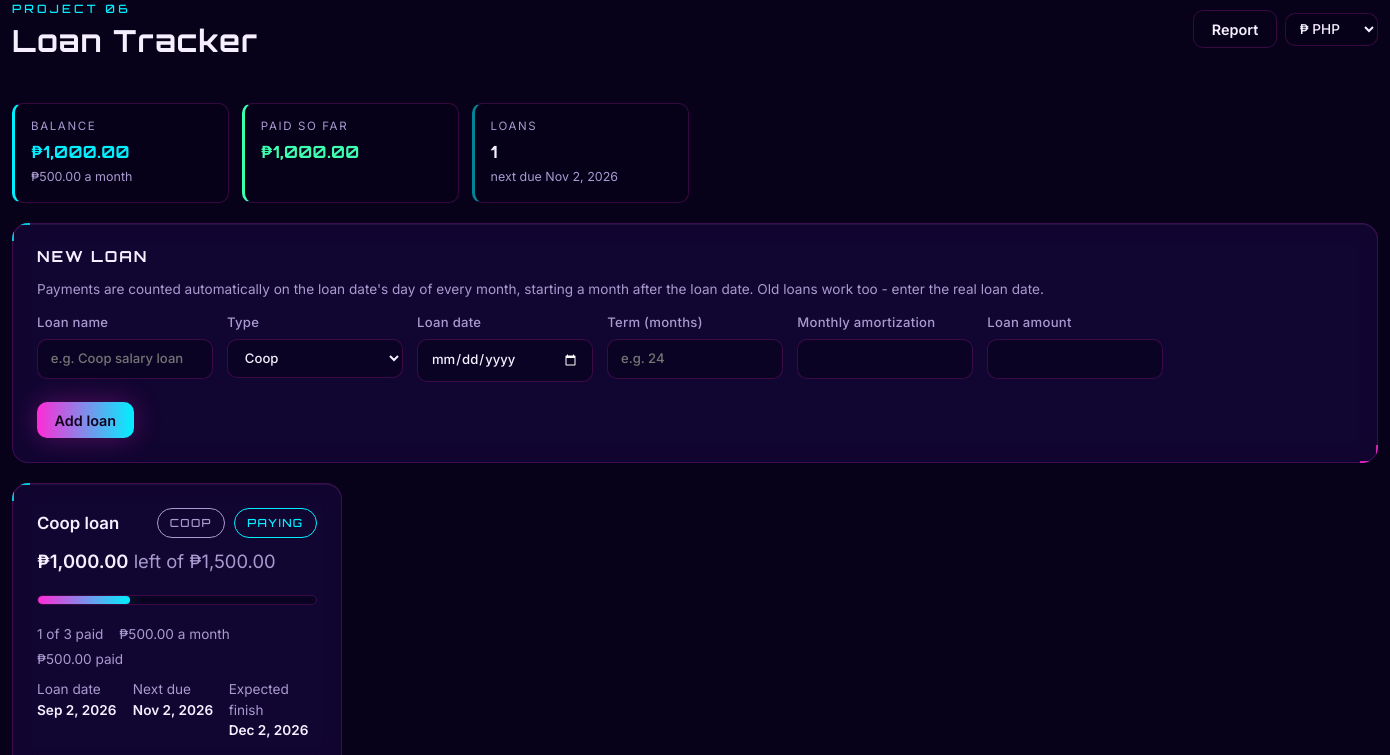
Test: LoansApp › adds a loan in the API format
In the field labelled "Loan name": (125, 359) [37,339,213,379], type "Pag-IBIG MPL"
Select "Pag-IBIG" in the dropdown labelled "Type": (315, 358) [227,339,403,378]
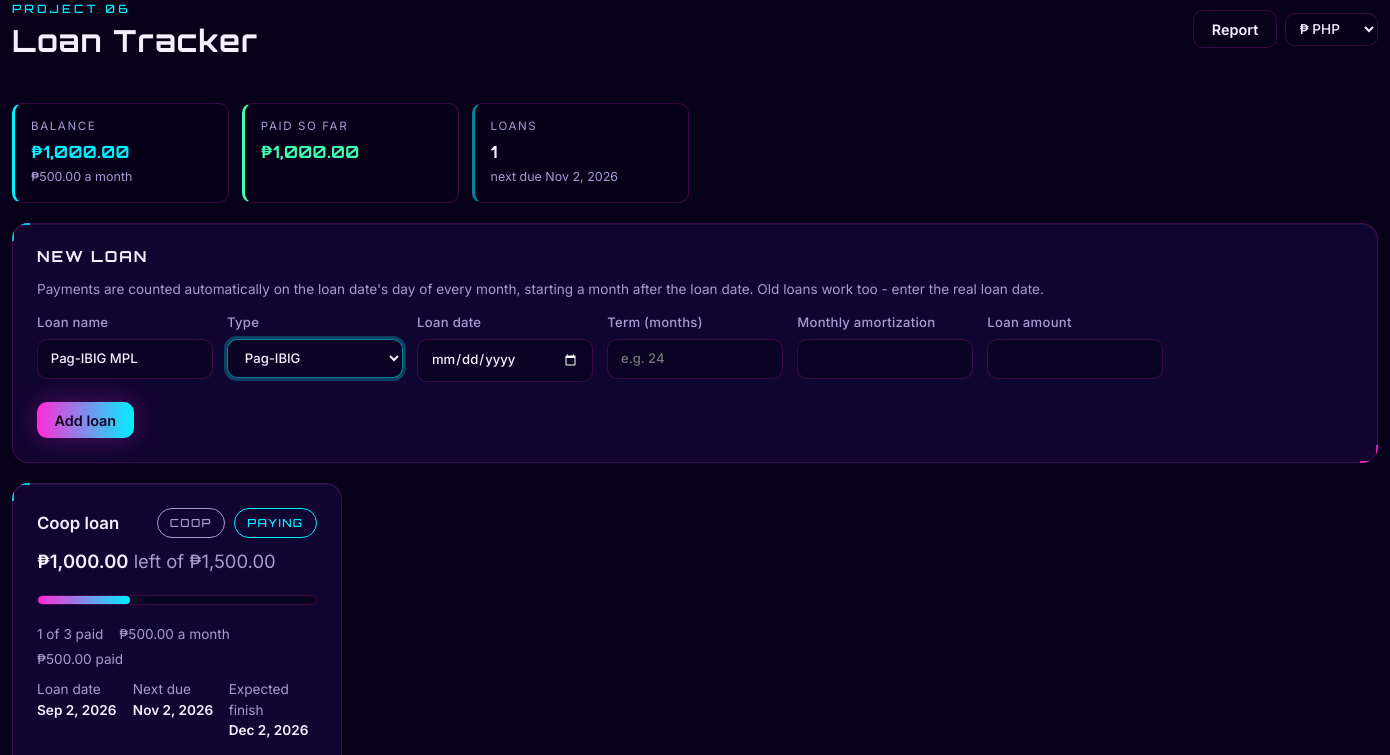
In the date field labelled "Loan date": (505, 360) [417,339,593,382], type "2024-04-02"
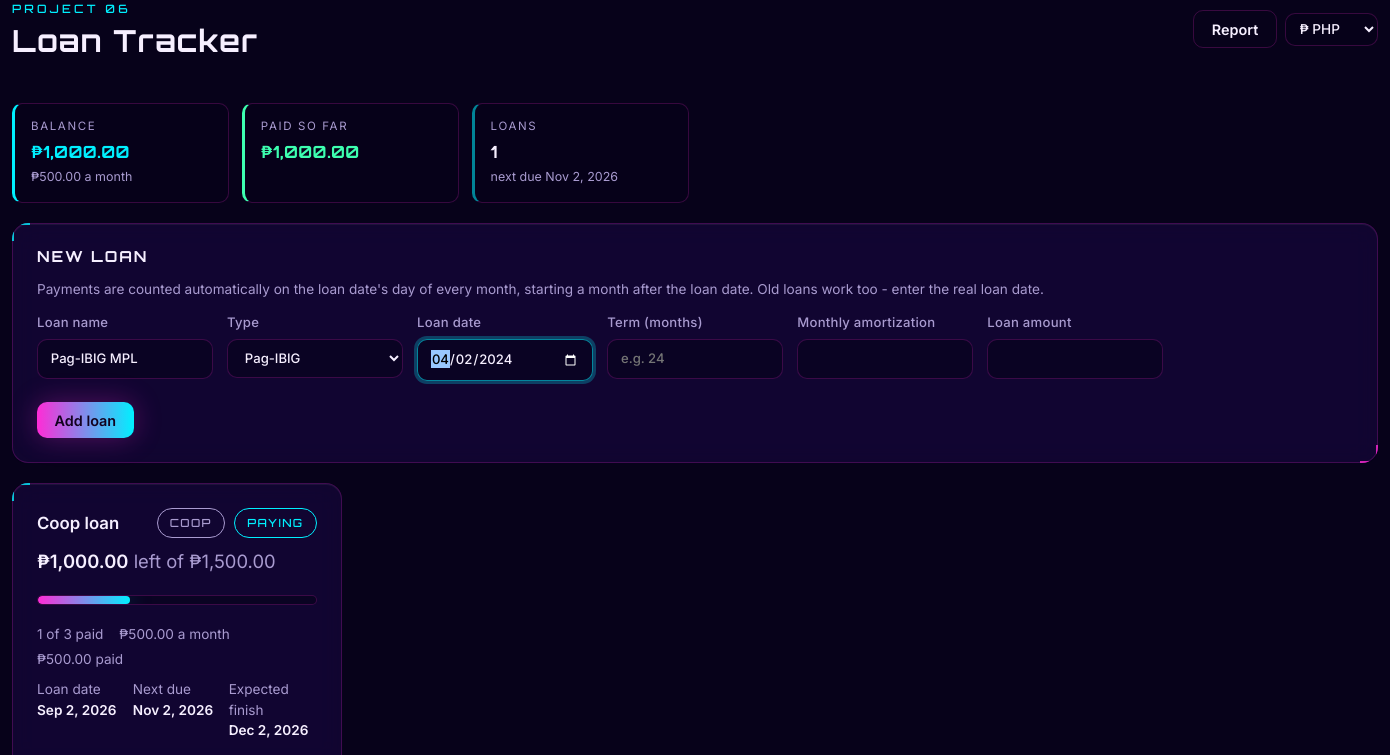
In the number field labelled "Term (months)": (695, 359) [607,339,783,379], type "24"
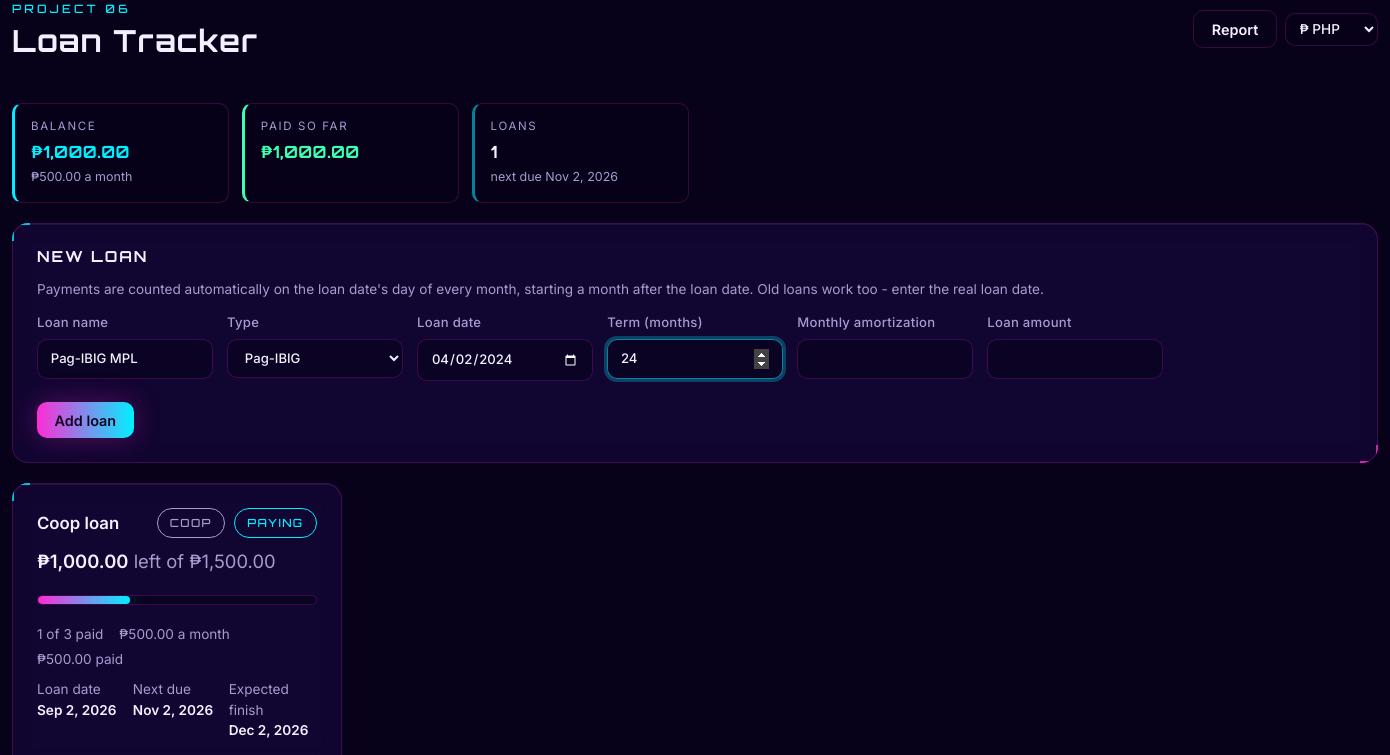
In the number field labelled "Monthly amortization": (885, 359) [797,339,973,379], type "500"
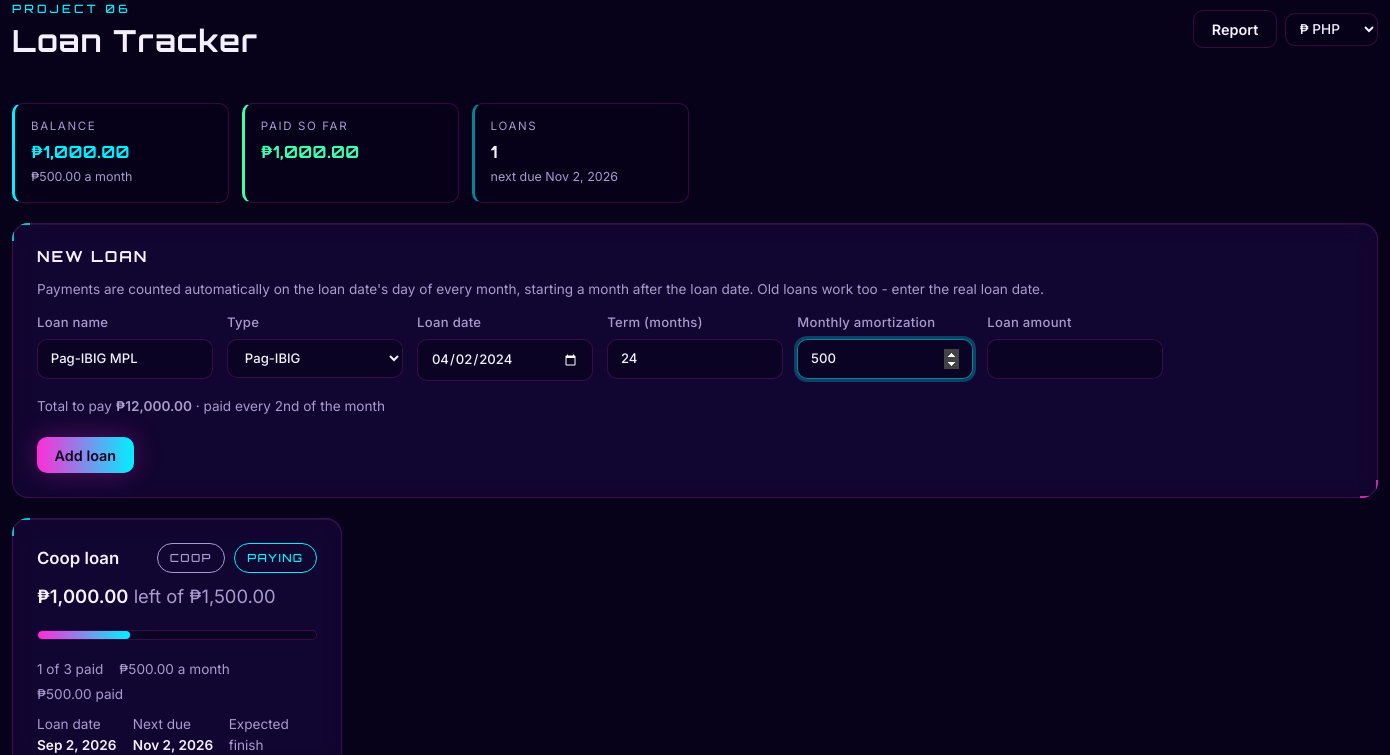
In the number field labelled "Loan amount": (1075, 359) [987,339,1163,379], type "10000"
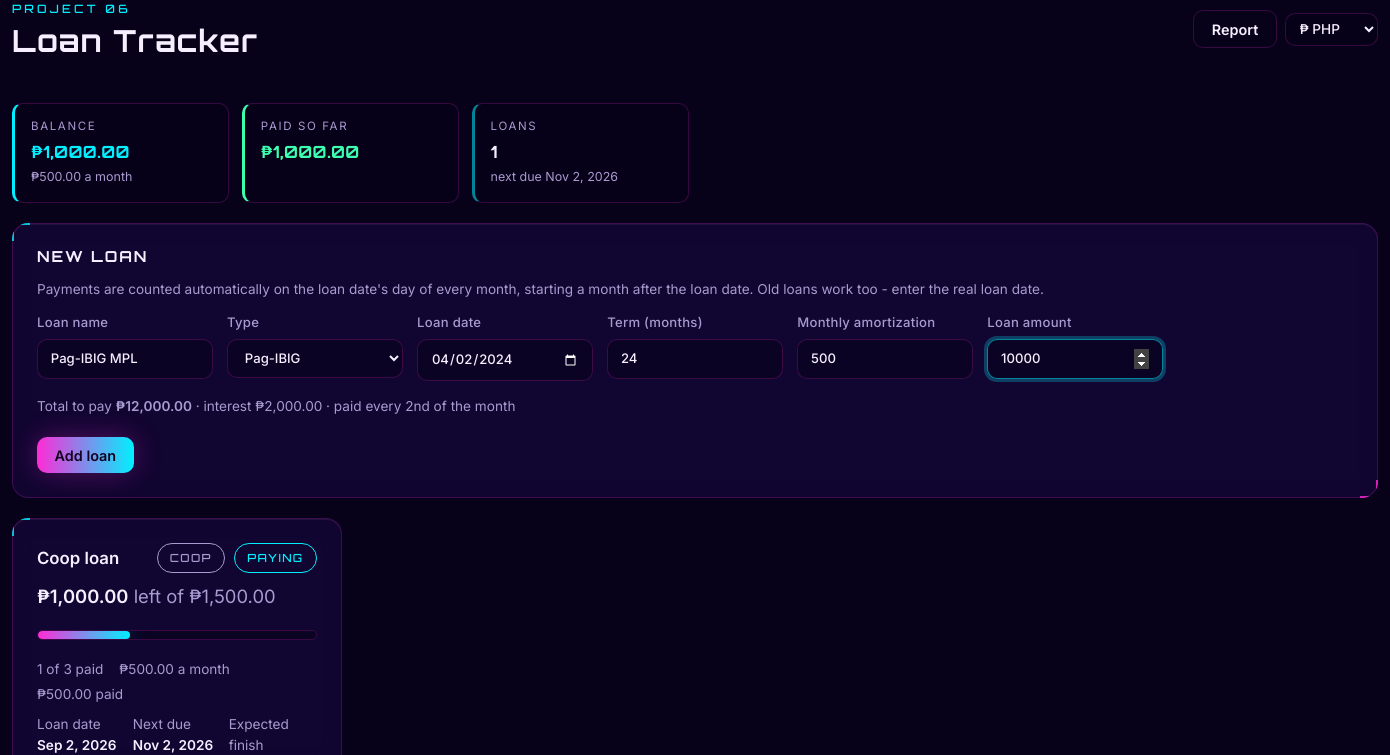
Result: the text "paid every 2nd of the month" is shown at [37,398,515,414]
Click the button "Add loan": (85, 455) [37,437,134,473]
(page scrolled)
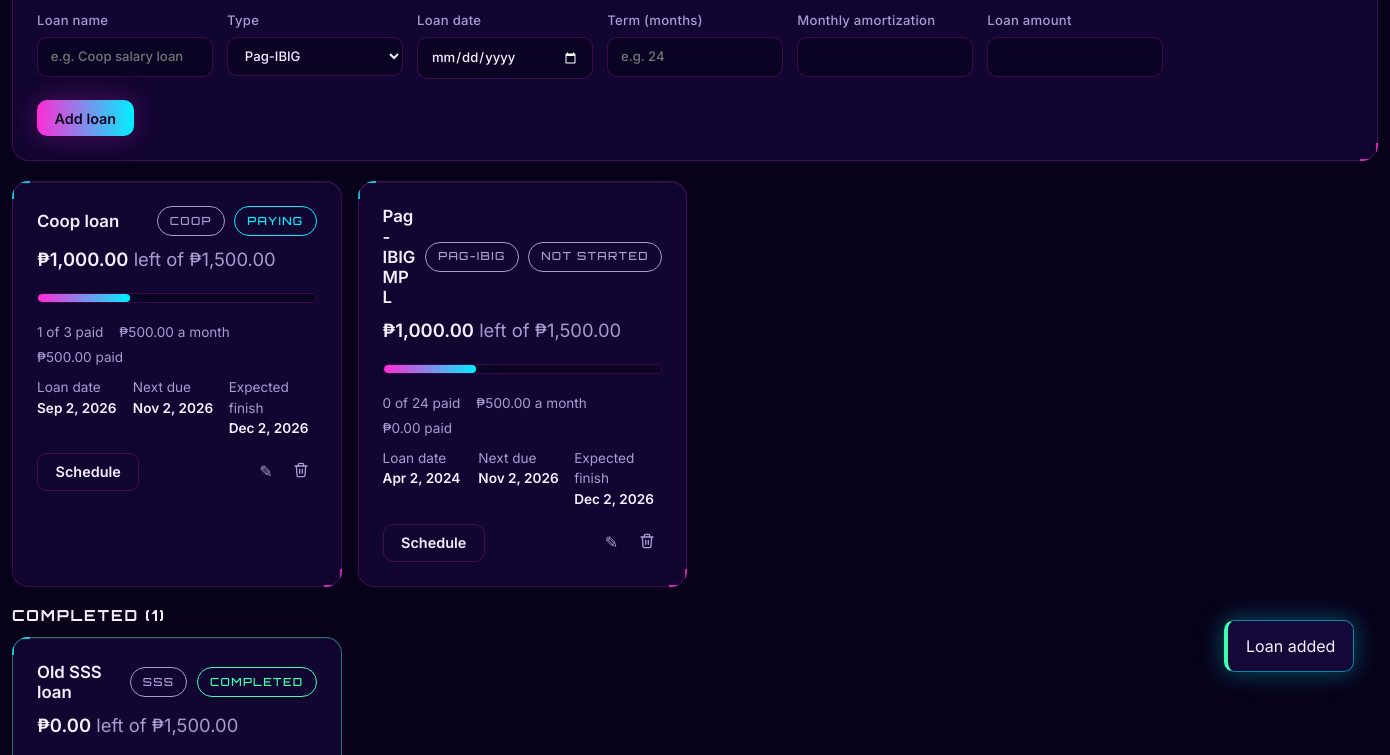
Result: the element "Pag-IBIG MPL" is shown at [358,181,687,587]
